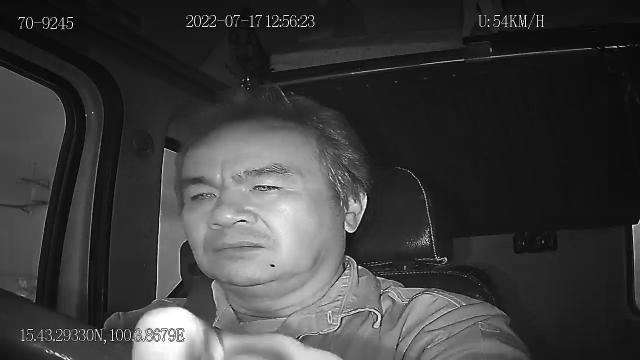SafeDriving: (242, 172, 292, 201), (183, 180, 223, 209)
Seatbelt: (182, 274, 220, 326)
